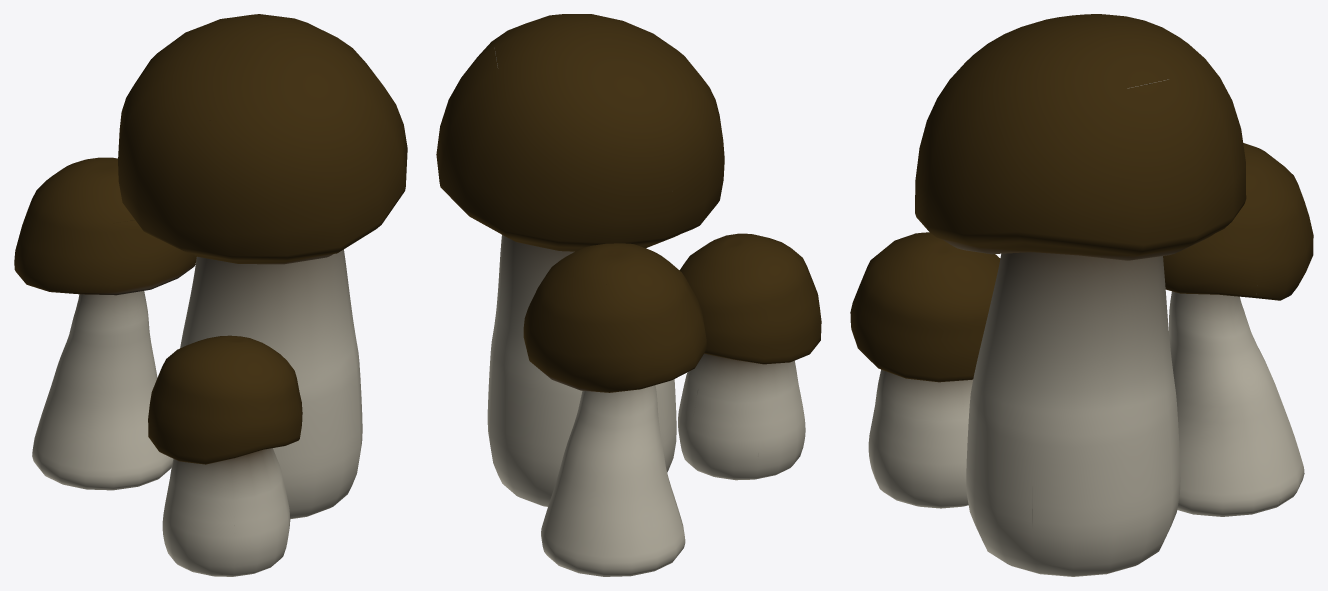
The model's file is Setas Gigantes.fbx.
3 renders of one model, left to right at view 1: azimuth 30°, elevation 25°; view 2: azimuth 150°, elevation 25°; view 3: azimuth 270°, elevation 25°, orthographic. The views are drawn at different scales.
Parts seen in each view (by area): view 1: Seta mayor1, Seta mediana1, Seta pequeña1; view 2: Seta mayor1, Seta mediana1, Seta pequeña1; view 3: Seta mayor1, Seta mediana1, Seta pequeña1.
Boxes of the visible parts, bbox=[...] form: Seta mayor1: bbox=[118, 14, 407, 519]; Seta mediana1: bbox=[14, 157, 196, 490]; Seta pequeña1: bbox=[148, 335, 302, 576]; Seta mayor1: bbox=[436, 14, 724, 506]; Seta mediana1: bbox=[523, 243, 706, 576]; Seta pequeña1: bbox=[678, 233, 821, 480]; Seta mayor1: bbox=[915, 14, 1246, 576]; Seta mediana1: bbox=[1163, 143, 1313, 516]; Seta pequeña1: bbox=[850, 232, 1000, 508].
Size of the model in its own units: 333 by 484 by 393.
